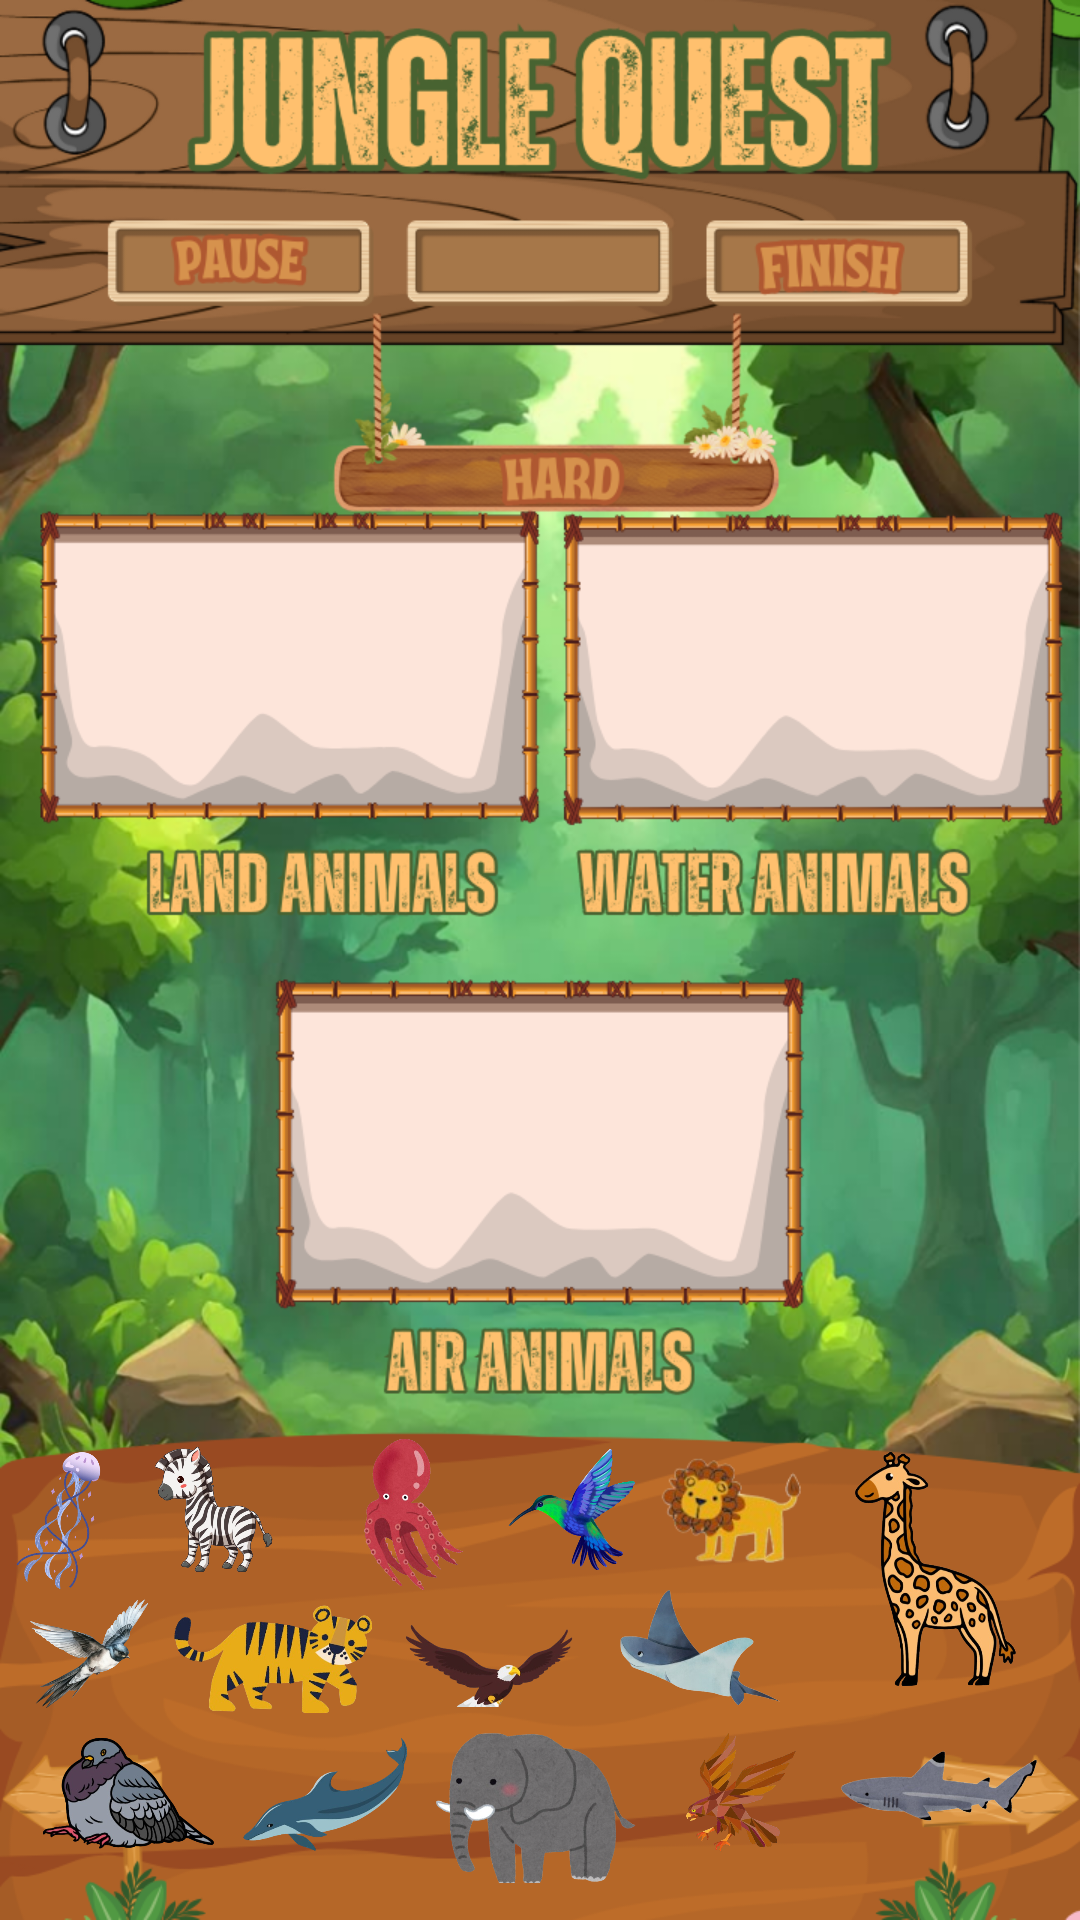

Named icons in this screenshot (1080px×1920px) and their bounding boxes, (x1, y1, x2, y2):
Draggable Animal: (662, 1459, 801, 1563)
Draggable Eagle: (406, 1625, 572, 1707)
Draggable Elephant: (433, 1733, 643, 1883)
Draggable Falcon: (686, 1734, 796, 1851)
Draggable Giraffe: (832, 1443, 1039, 1689)
Draggable Hummingbird: (509, 1449, 635, 1570)
Draggable Jellyfish: (15, 1442, 102, 1595)
Draggable Octopus: (364, 1439, 463, 1590)
Draggable Pigeon: (15, 1738, 214, 1854)
Draggable Shark: (841, 1751, 1039, 1838)
Draggable Stingray: (620, 1590, 780, 1705)
Draggable Swift: (30, 1599, 148, 1708)
Draggable Tiger: (174, 1605, 372, 1713)
Draggable Zebra: (130, 1444, 298, 1572)
